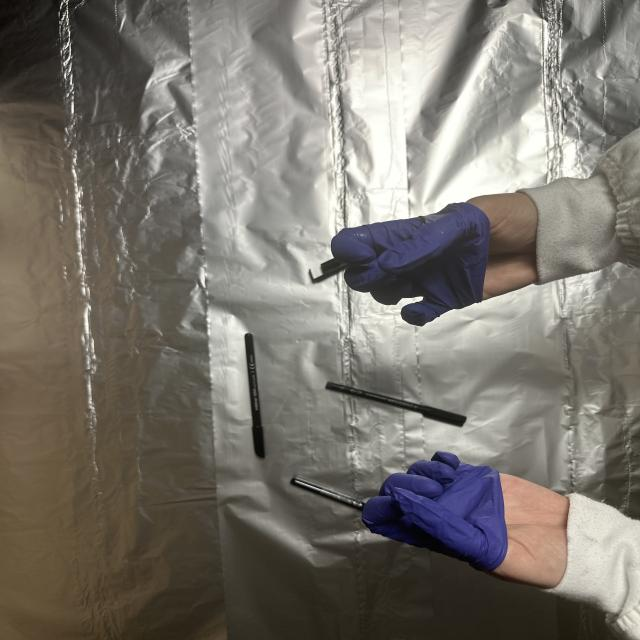glove_partial: (358, 450, 576, 589), (328, 192, 542, 326)
